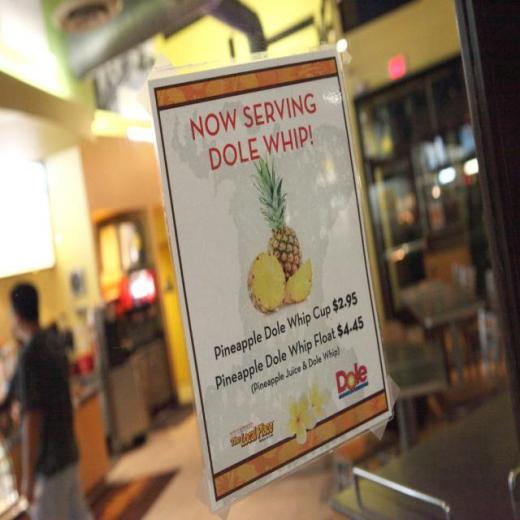Mango: (248, 149, 304, 282), (248, 252, 288, 318), (284, 258, 316, 302)
